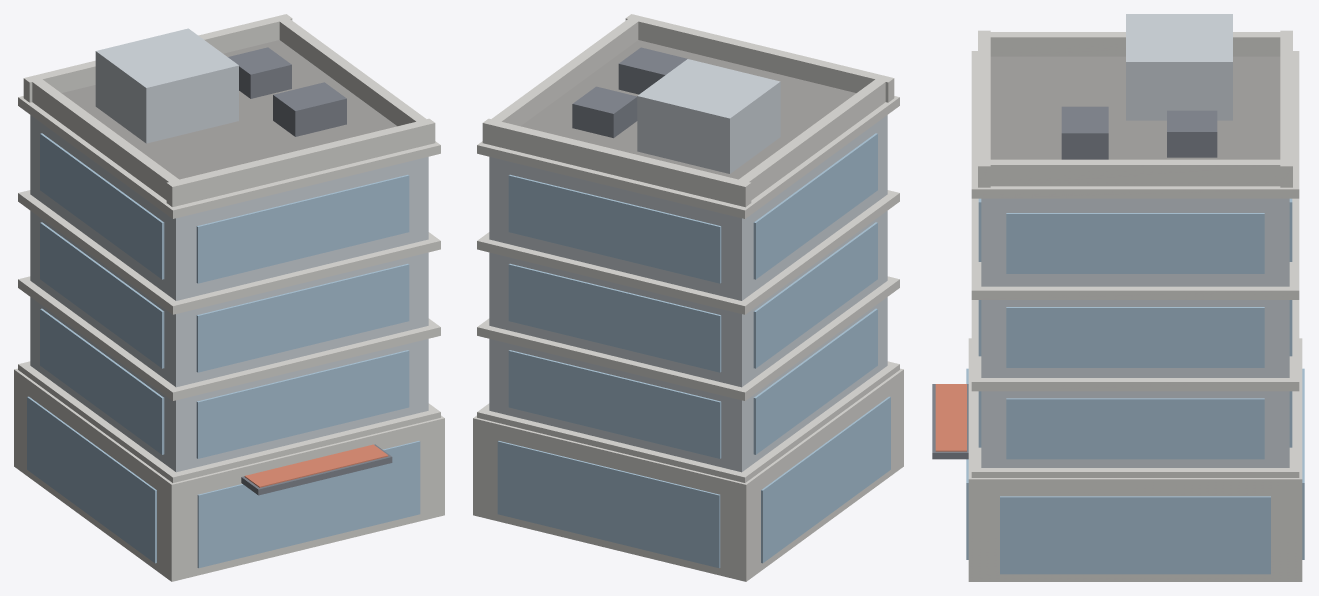
Rendered from bldg_downtown_tower.glb.
3 views of the same model, side by side, from view 1: azimuth 30°, elevation 25°; view 2: azimuth 150°, elevation 25°; view 3: azimuth 270°, elevation 25° (orthographic). The views are drawn at different scales.
Visible parts, largest first — view 1: bldg_downtown_tower; view 2: bldg_downtown_tower; view 3: bldg_downtown_tower.
Part boxes in pixels (bbox=[...]): bldg_downtown_tower: bbox=[14, 14, 444, 581]; bldg_downtown_tower: bbox=[473, 14, 903, 581]; bldg_downtown_tower: bbox=[932, 14, 1304, 581].
Bounding box in the file's own units: 10.74 × 15.85 × 11.82.
